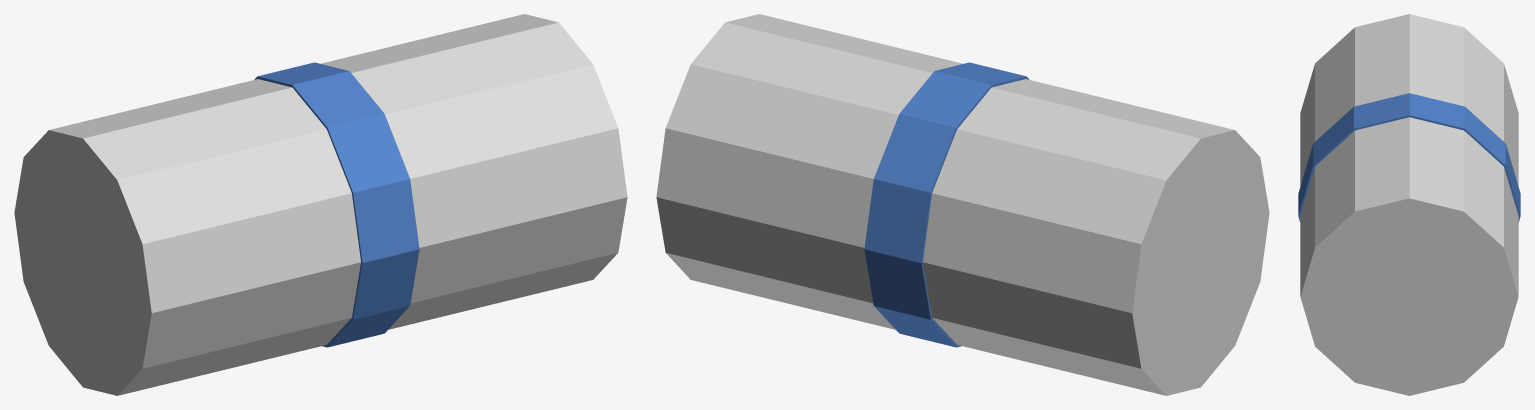
File: sm_product_rolled_mattress.glb
The picture shows the model from 3 angles, left to right: view 1: azimuth 30°, elevation 25°; view 2: azimuth 150°, elevation 25°; view 3: azimuth 270°, elevation 25°; orthographic projection. The views are drawn at different scales.
Parts seen in each view (by area): view 1: rolled_mattress_0, rolled_mattress_1; view 2: rolled_mattress_0, rolled_mattress_1; view 3: rolled_mattress_0, rolled_mattress_1.
Boxes of the visible parts, bbox=[...] form: rolled_mattress_0: bbox=[14, 14, 627, 395]; rolled_mattress_1: bbox=[254, 62, 419, 347]; rolled_mattress_0: bbox=[656, 14, 1269, 395]; rolled_mattress_1: bbox=[864, 62, 1029, 347]; rolled_mattress_0: bbox=[1300, 14, 1518, 395]; rolled_mattress_1: bbox=[1298, 93, 1520, 221].
Size of what is drawn, in the model's own units: 1 by 0.51 by 0.51.
